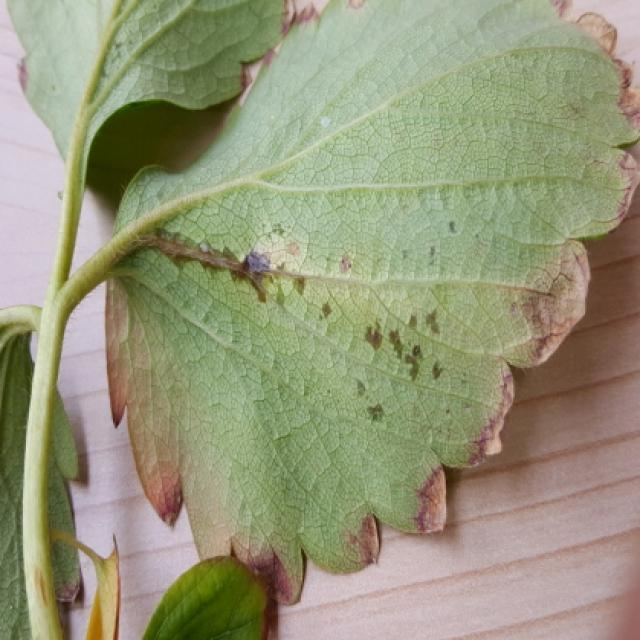Angular Leafspot: (101, 0, 637, 605)
